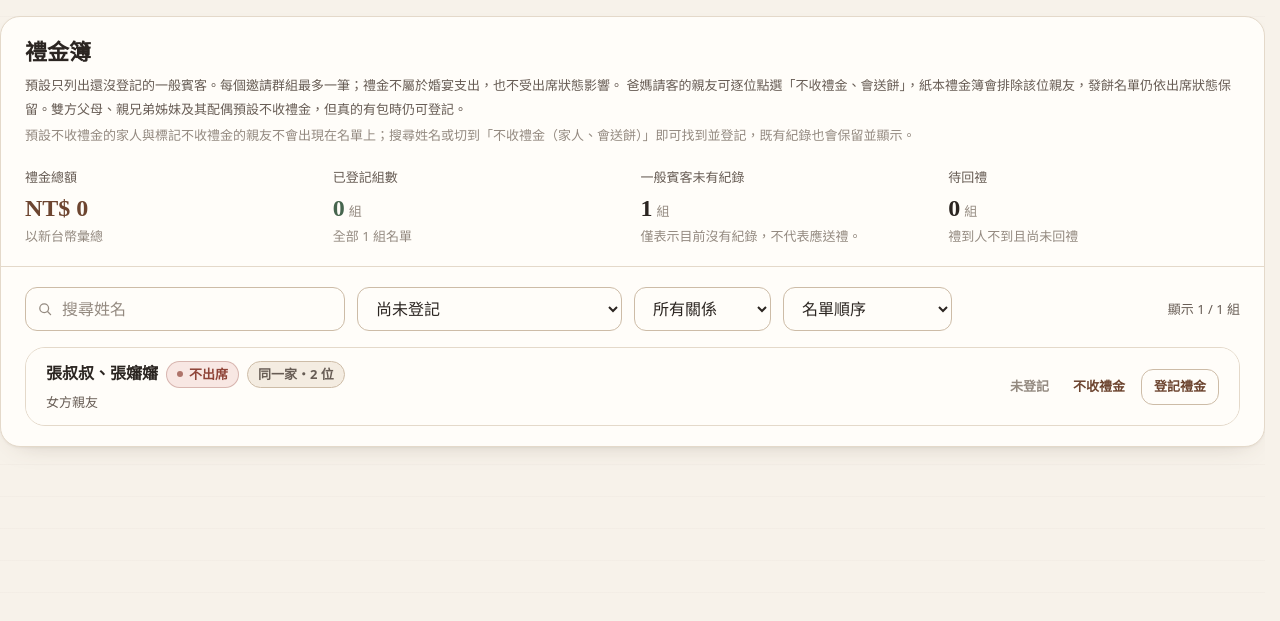
Test: WeddingGiftBook › marks the whole household as not collecting gifts at once
This screenshot has width=1280, height=621.
Click the button with aria-label "標記 張叔叔、張嬸嬸 不收禮金、會送餅".
click(1099, 387)  # box [1061,369,1137,405]
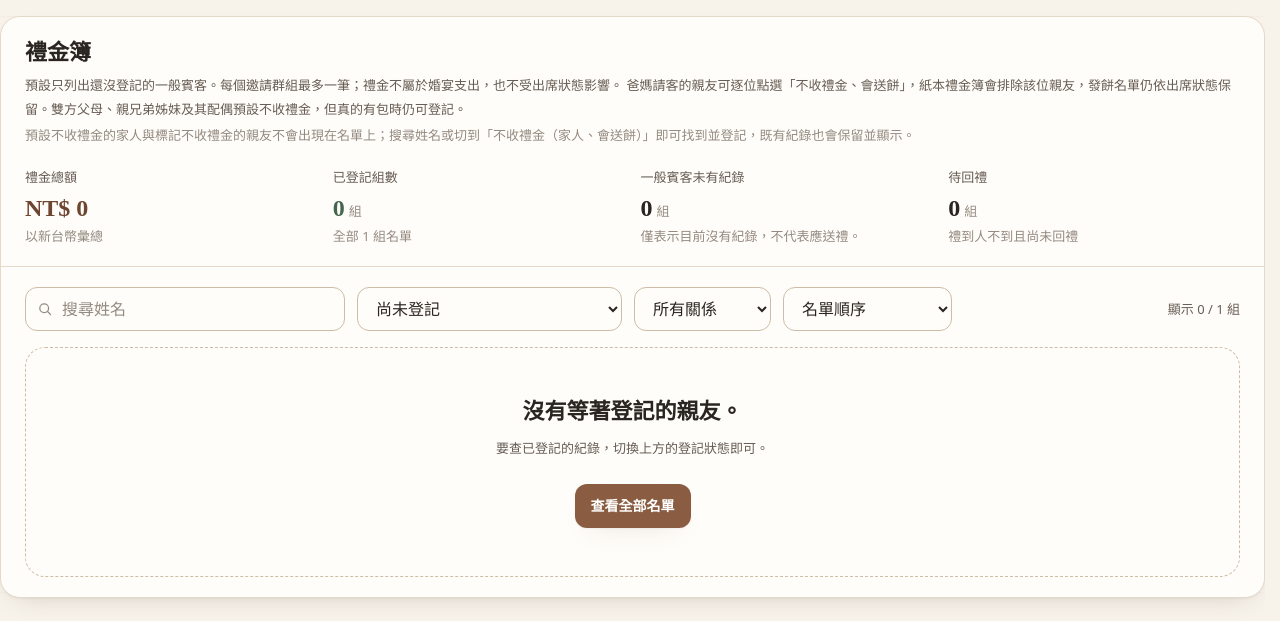
Expected: the heading "張叔叔、張嬸嬸" is gone
